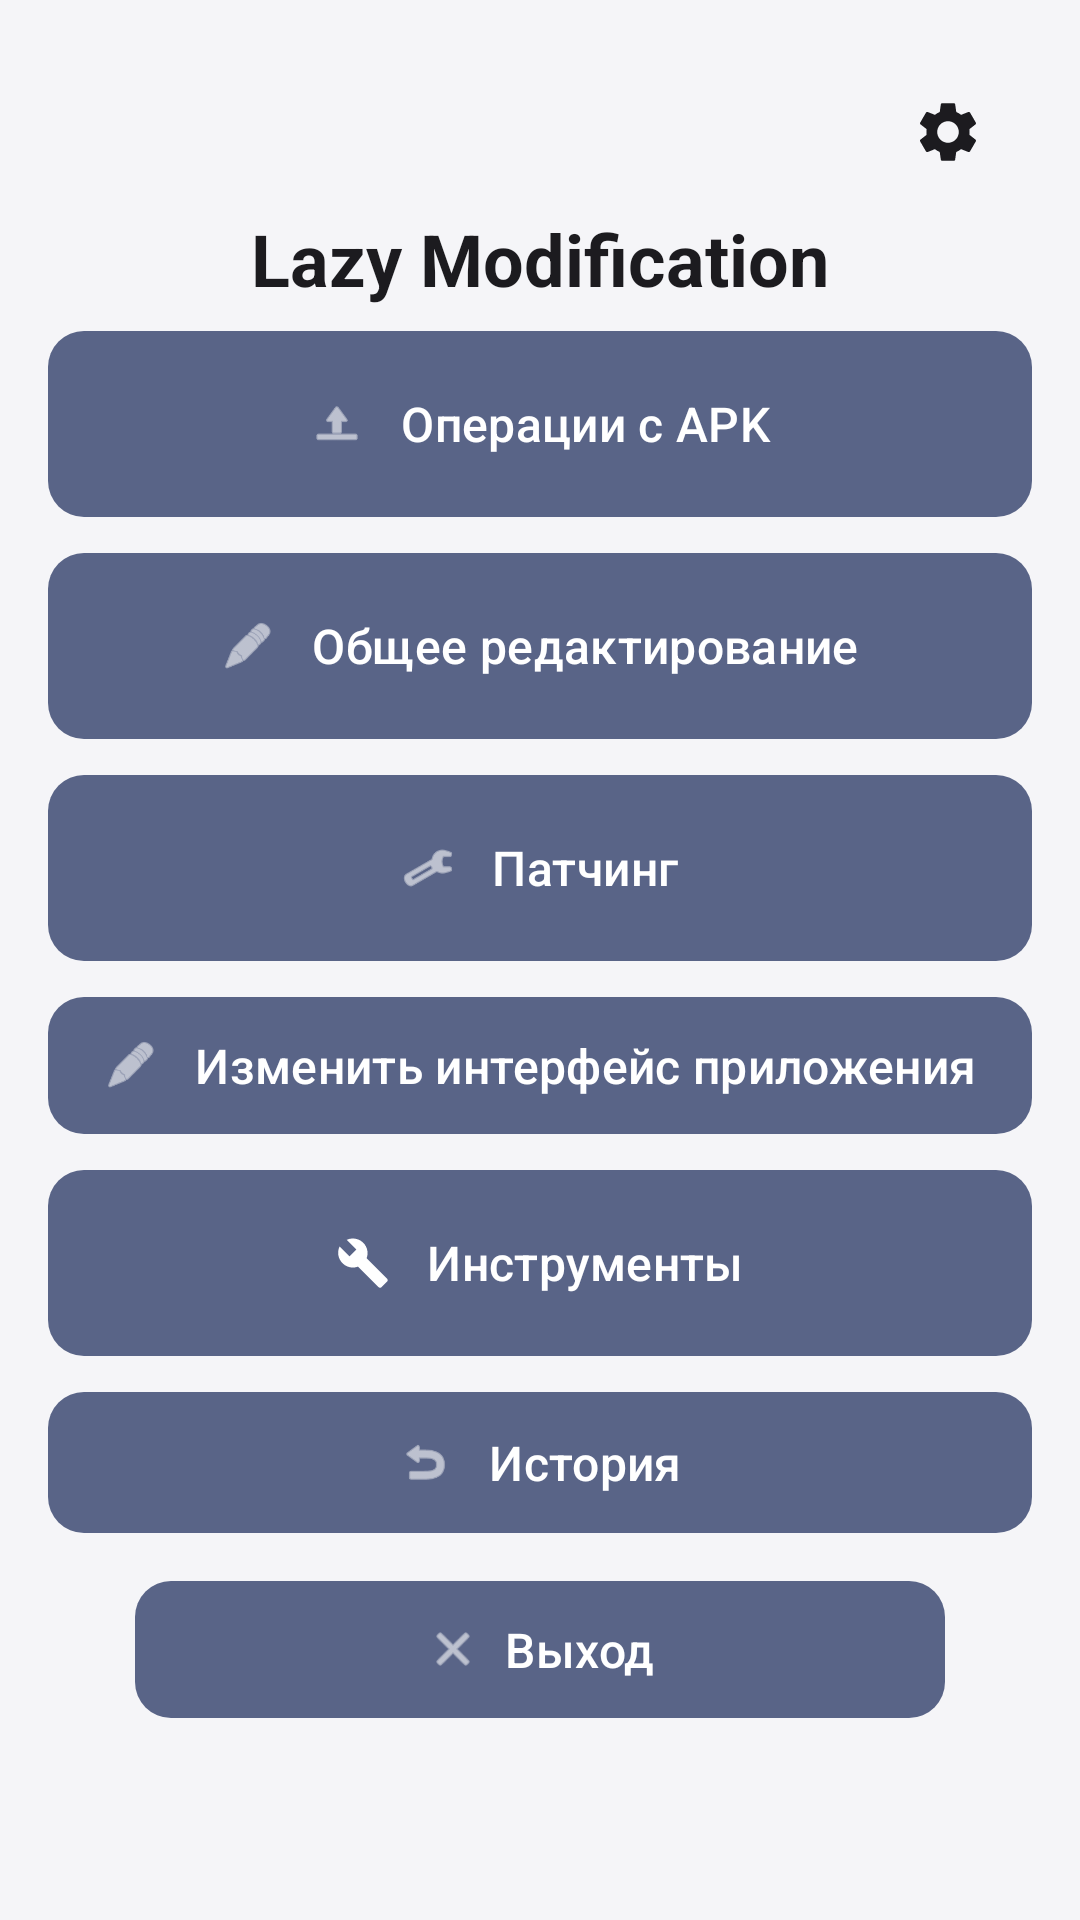

Where icons sit on this 1080px×1920px app screen, as {"left": x1, "top": y1, "right": x2, "bottom": y2}:
Настройки: {"left": 920, "top": 103, "right": 976, "bottom": 161}
